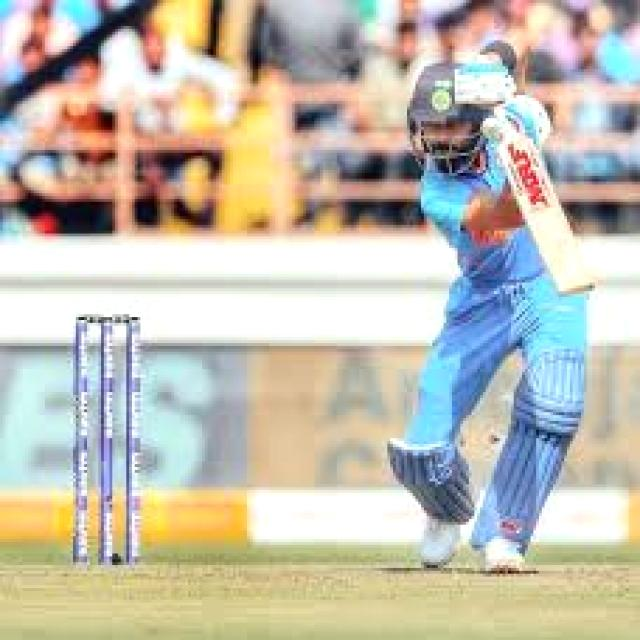toe: (542, 256, 594, 298)
